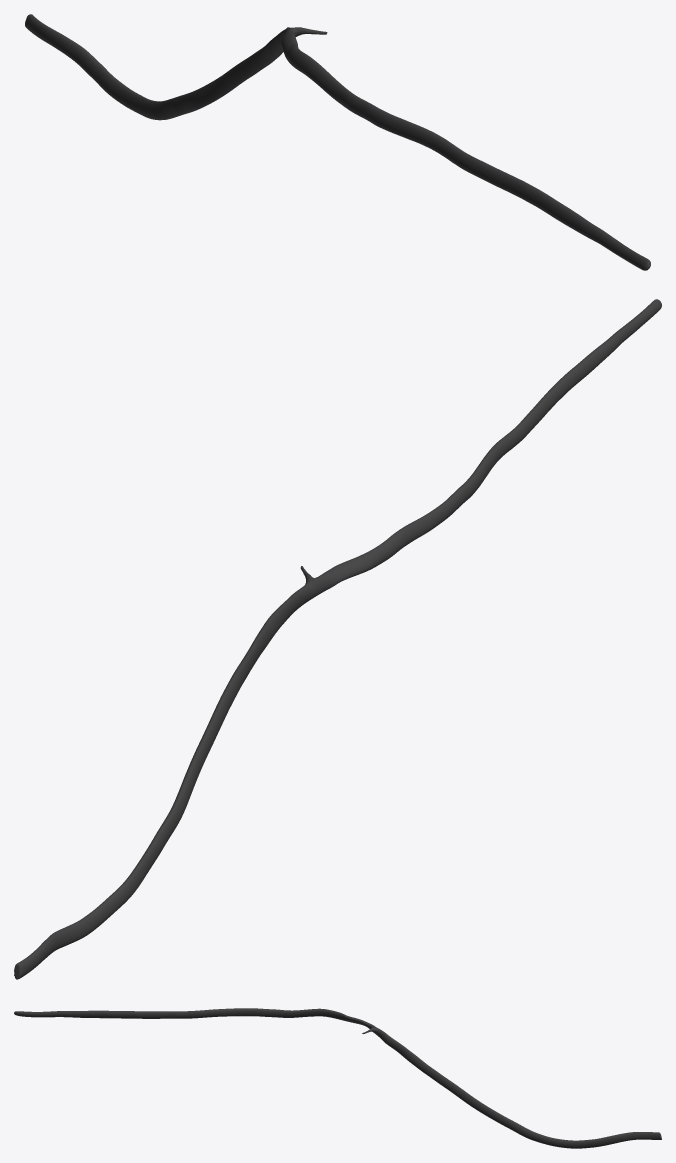
The model's file is N_musculocutaneous_L.glb.
3 views of the same model, one above another, from view 1: azimuth 30°, elevation 25°; view 2: azimuth 150°, elevation 25°; view 3: azimuth 270°, elevation 25° (orthographic). The views are drawn at different scales.
Parts seen in each view (by area): view 1: N_musculocutaneous_L; view 2: N_musculocutaneous_L; view 3: N_musculocutaneous_L.
Boxes of the visible parts, x1=… form: N_musculocutaneous_L: x1=25, y1=14, x2=650, y2=270; N_musculocutaneous_L: x1=14, y1=299, x2=661, y2=979; N_musculocutaneous_L: x1=14, y1=1008, x2=661, y2=1148.
Size of the model in its own units: 0.0014 by 0.00439 by 0.0199.
1 material, 1 textured.
